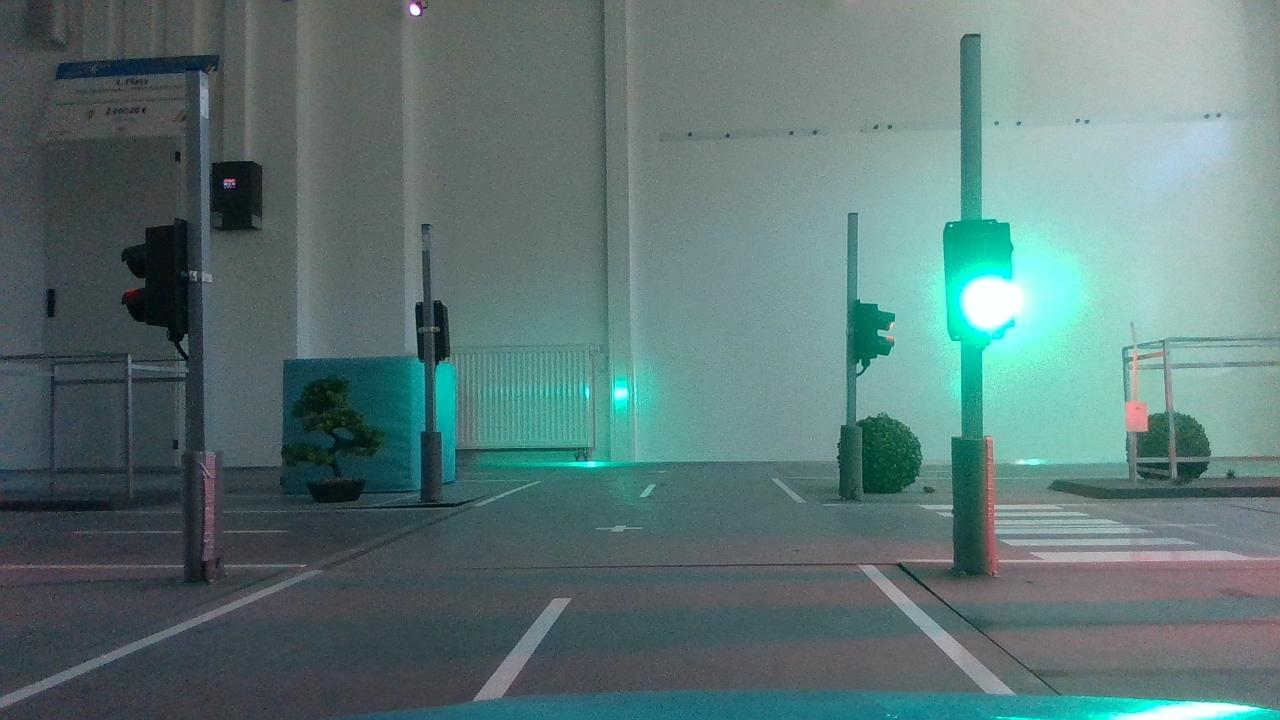traffic_light_green: (930, 211, 1033, 353)
